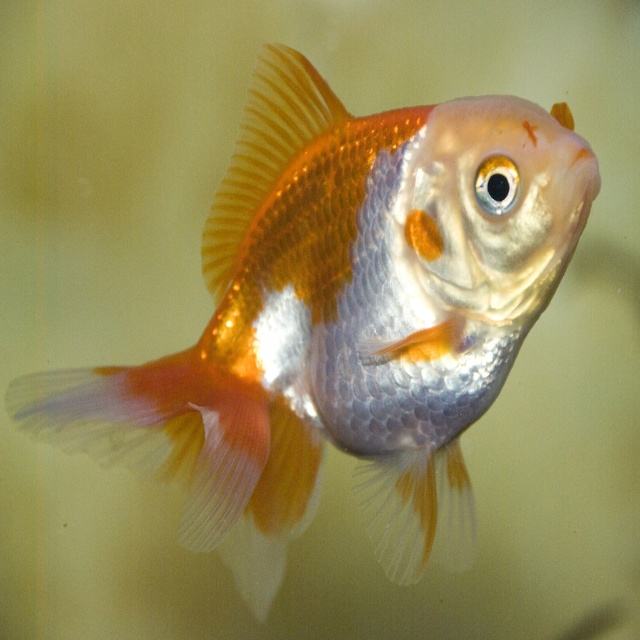Goldfish: (5, 45, 601, 618)
